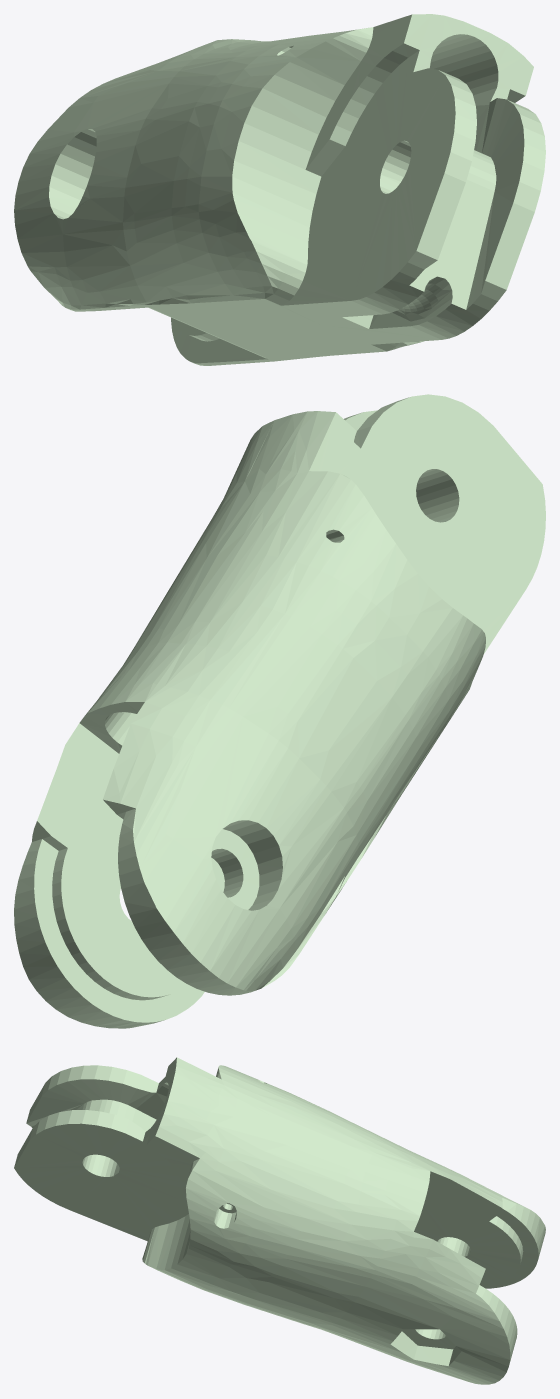
Rendered from i02_leftHand_majeurePhal_visual.obj.balanced.glb.
The picture shows the model from 3 angles, top to bottom: view 1: azimuth 30°, elevation 25°; view 2: azimuth 150°, elevation 25°; view 3: azimuth 270°, elevation 25°; orthographic projection. The views are drawn at different scales.
Bounding box in the file's own units: 0.2039 × 0.3366 × 0.5012.
